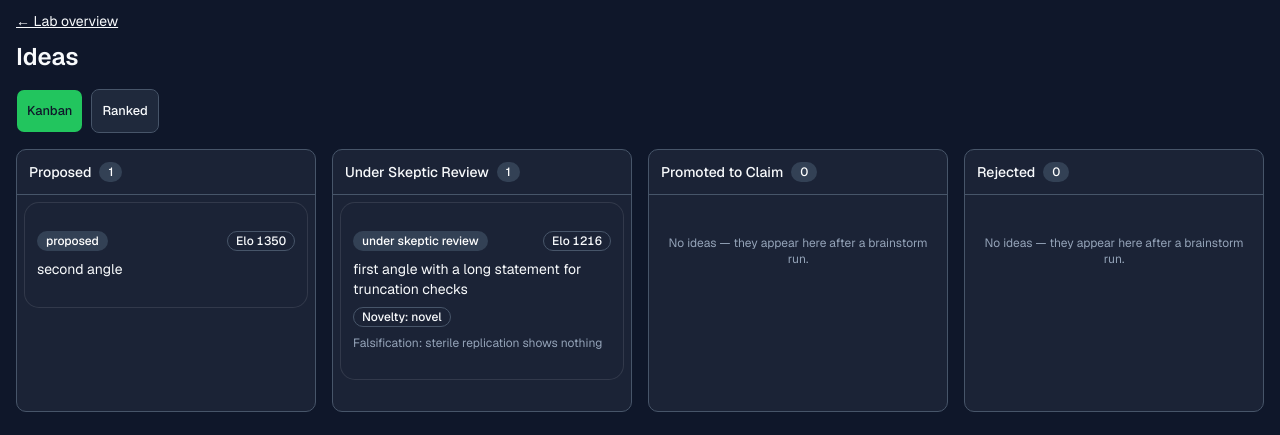
Test: IdeasPage › toggles between Kanban columns and the Elo-descending ranked list
Expected: the heading "Under Skeptic Review 1" is shown, [345,162,520,182]
Expected: the text "Elo 1216" is shown, [543,231,611,251]
Click the button "Ranked".
click(125, 111)  # box [91,89,159,133]
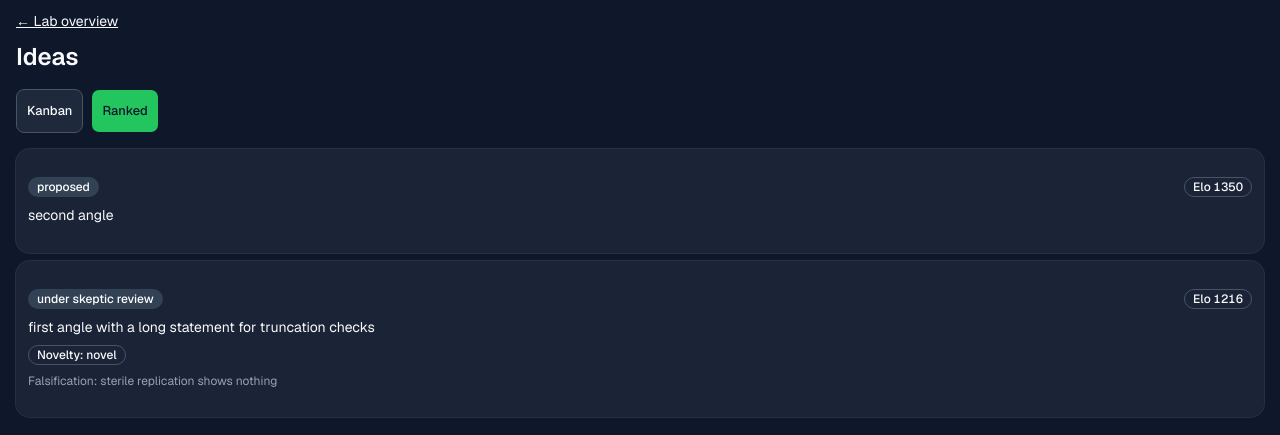
Click the button "Kanban".
click(50, 111)  # box [16,89,83,133]
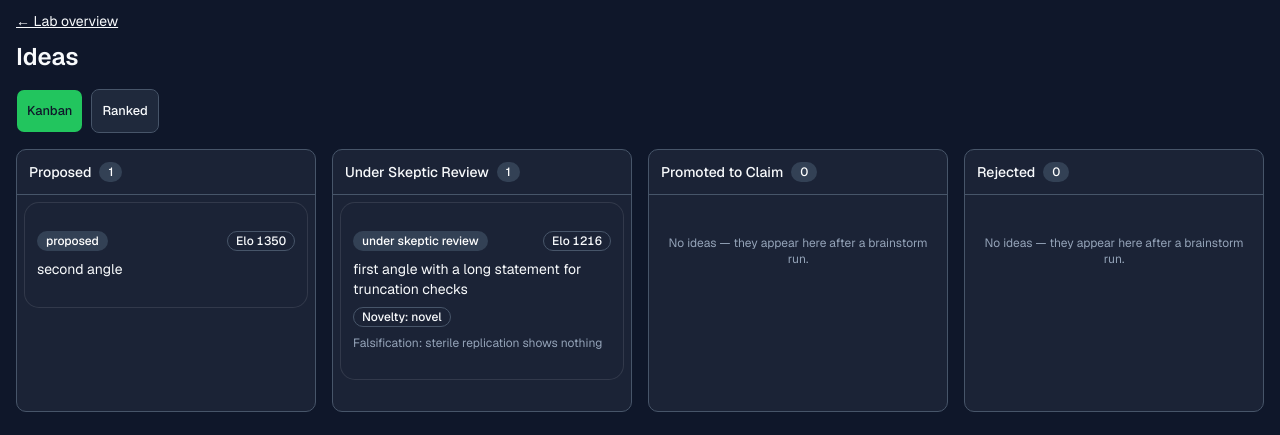
Now the heading "Under Skeptic Review 1" is shown, box [345,162,520,182]
